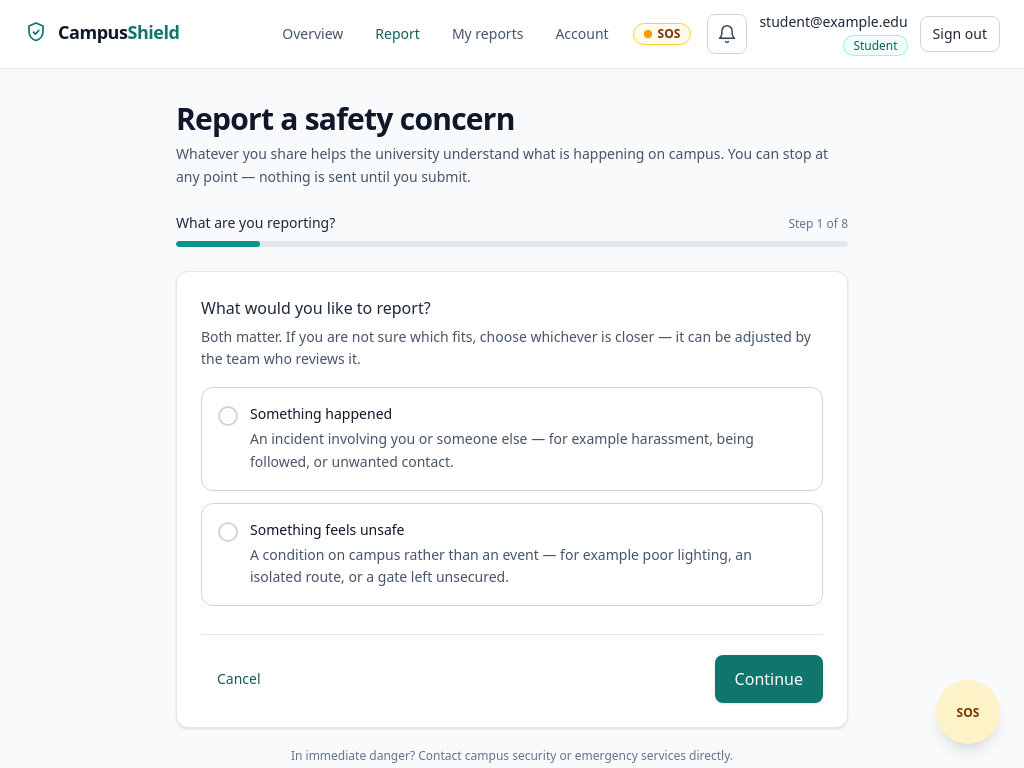
it: ReportPage — navigation › goes back without losing what was entered
Check: the heading "Report a safety concern" is shown, box [176, 98, 515, 139]
Click the radio button labelled "Something feels unsafe". click: [512, 554]
box: [201, 502, 823, 606]
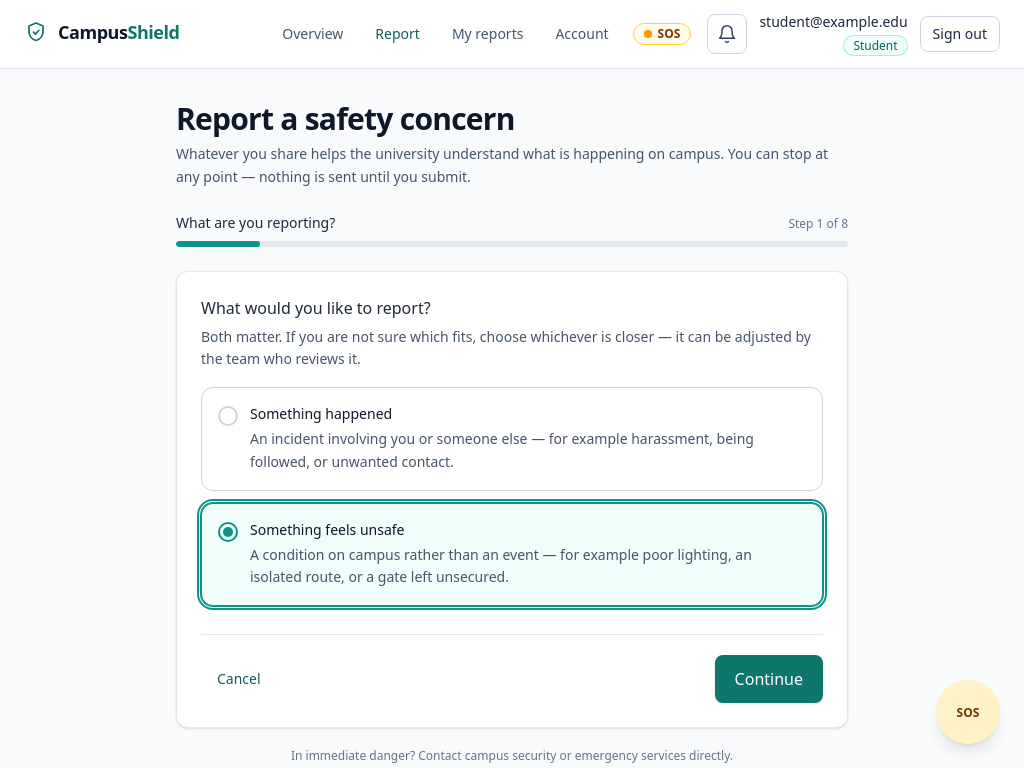
Click the button "Continue". click: [769, 679]
box: [715, 655, 823, 703]
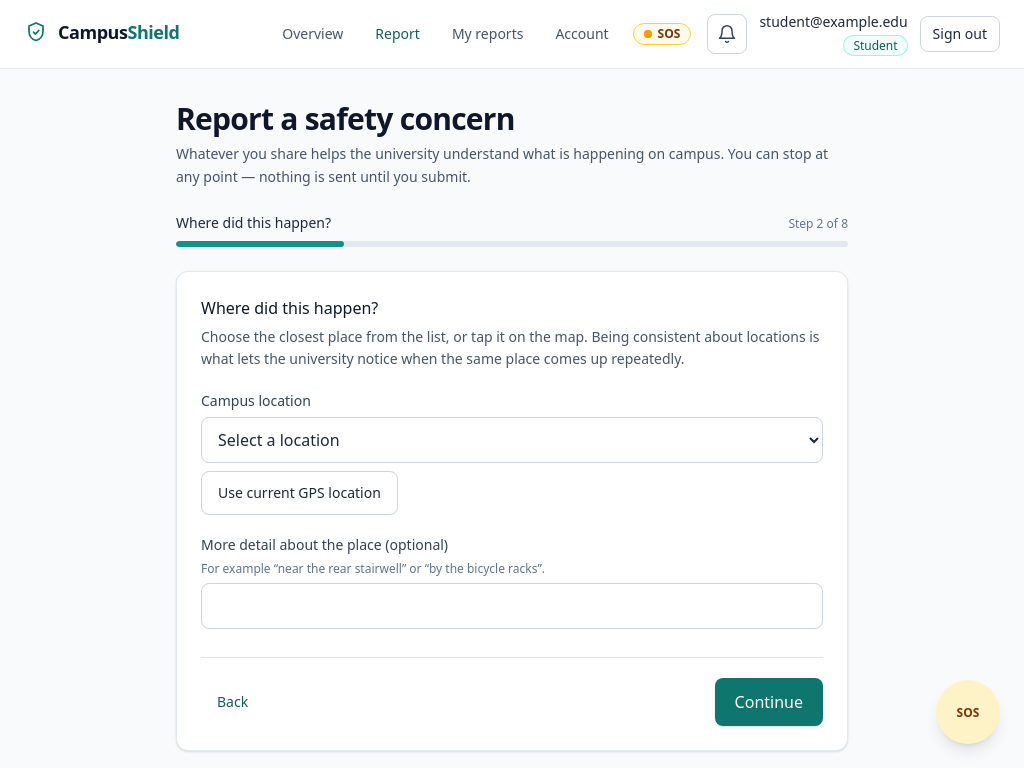
Check: the text "Step 2 of 8" is shown, box [788, 216, 848, 232]
Click the button "Back". click: [233, 702]
box: [201, 678, 264, 726]
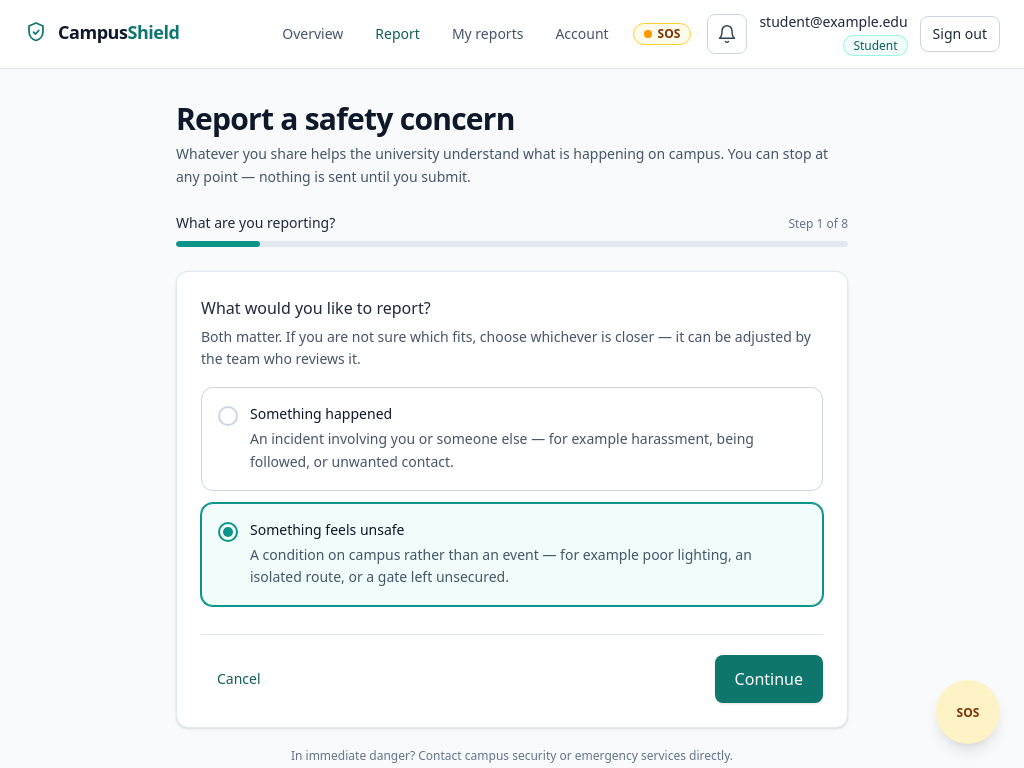
Check: the text "Step 1 of 8" is shown, box [788, 216, 848, 232]
Check: the radio button labelled "Something feels unsafe" is checked, box [201, 502, 823, 606]
